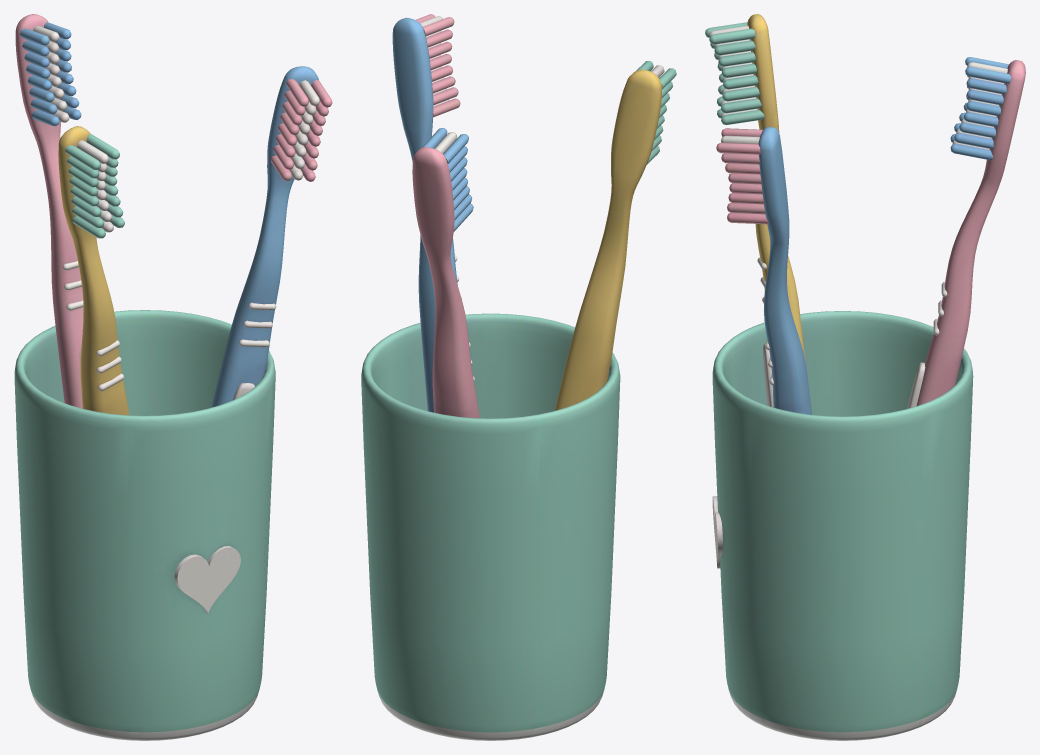
The model's file is vaso_cepillos.glb.
The picture shows the model from 3 angles, left to right: view 1: azimuth 30°, elevation 25°; view 2: azimuth 150°, elevation 25°; view 3: azimuth 270°, elevation 25°; orthographic projection.
Visible parts, largest first — view 1: toothbrush-holder_body; view 2: toothbrush-holder_body; view 3: toothbrush-holder_body.
Part boxes in pixels (x1,y1,x2,y2): toothbrush-holder_body: (14, 14, 332, 740); toothbrush-holder_body: (361, 14, 676, 740); toothbrush-holder_body: (705, 14, 1025, 740).
Bounding box in the file's own units: 0.0872 × 0.199 × 0.0923.
Materials: 1 (1 with a texture image).
